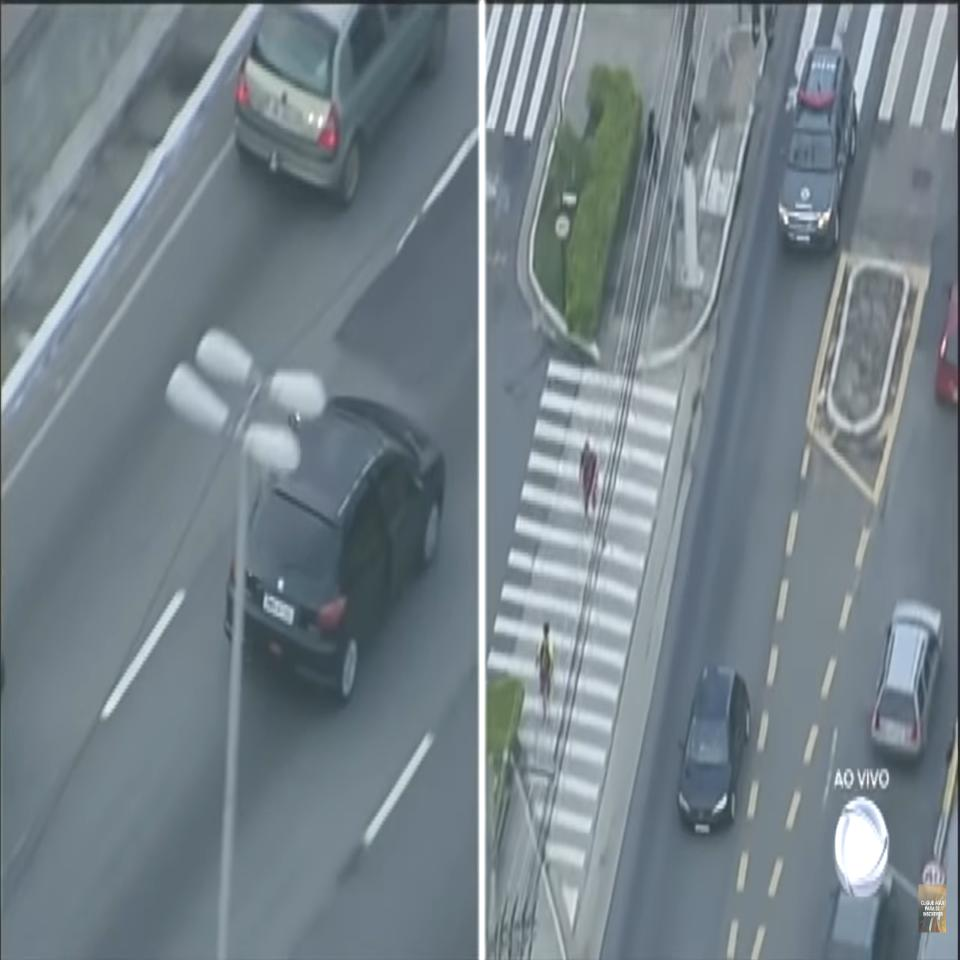viatura: (776, 44, 860, 253)
